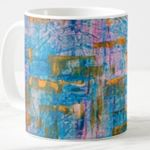cups: (1, 3, 135, 144)
